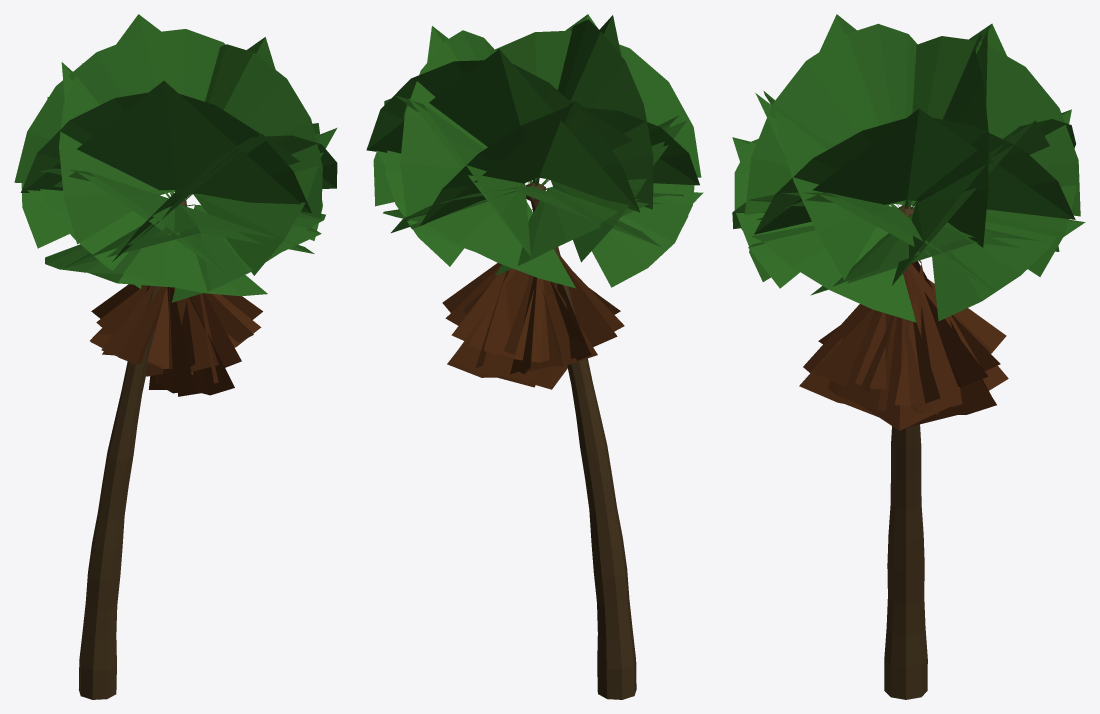
The model's file is palm_c.glb.
3 views of the same model, side by side, from view 1: azimuth 30°, elevation 25°; view 2: azimuth 150°, elevation 25°; view 3: azimuth 270°, elevation 25° (orthographic). The views are drawn at different scales.
Parts seen in each view (by area): view 1: Palm_Palmyra_C; view 2: Palm_Palmyra_C; view 3: Palm_Palmyra_C.
Boxes of the visible parts, left/top/right/bottom form: Palm_Palmyra_C: left=14, top=14, right=337, bottom=699; Palm_Palmyra_C: left=366, top=14, right=703, bottom=699; Palm_Palmyra_C: left=732, top=14, right=1085, bottom=699.
Bounding box in the file's own units: 5.9 × 12.91 × 5.88.
Materials: 1 (1 with a texture image).
